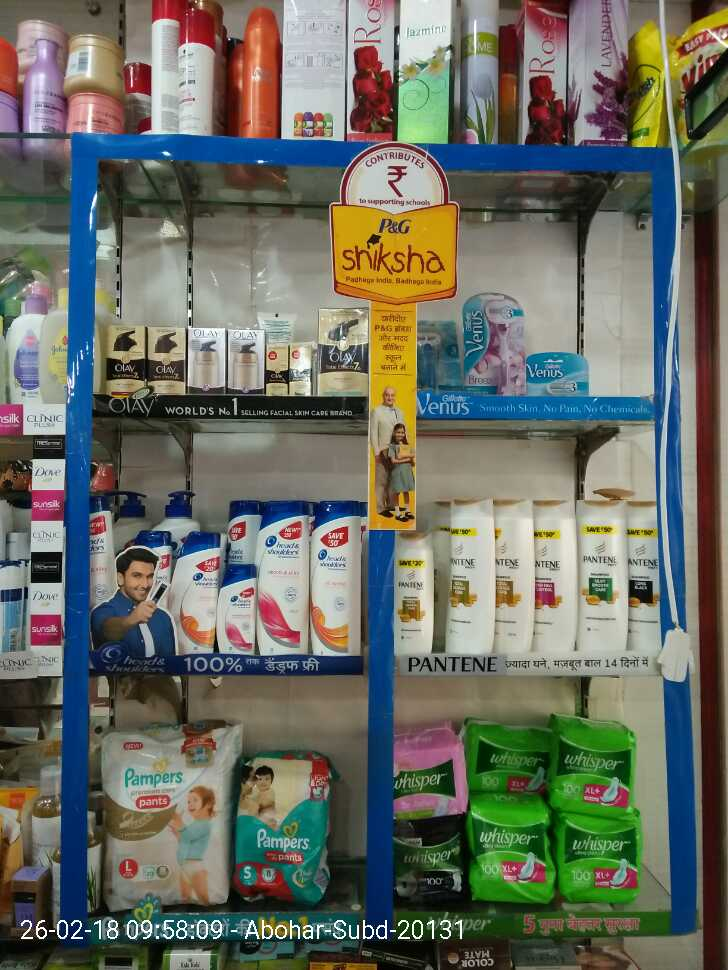venus: (470, 289, 520, 392), (414, 319, 460, 391), (521, 350, 587, 392)
